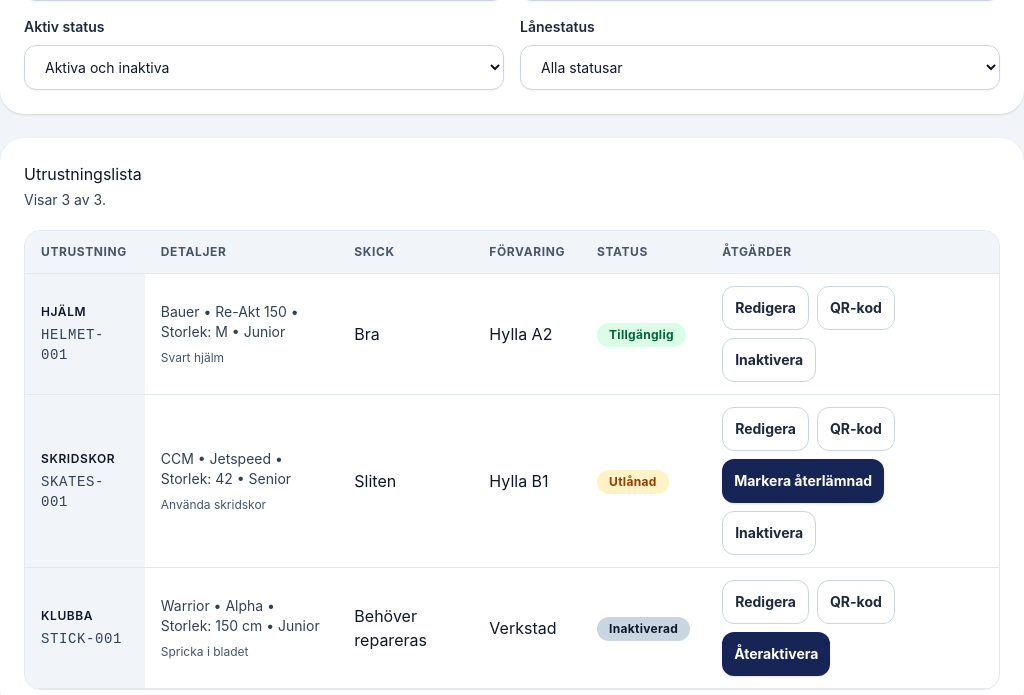
Test: AdminPage › returns equipment and updates list without another fetch
This screenshot has width=1024, height=695.
(page scrolled)
Click the button "Markera återlämnad" at (803, 481), box [722,459,884,503]
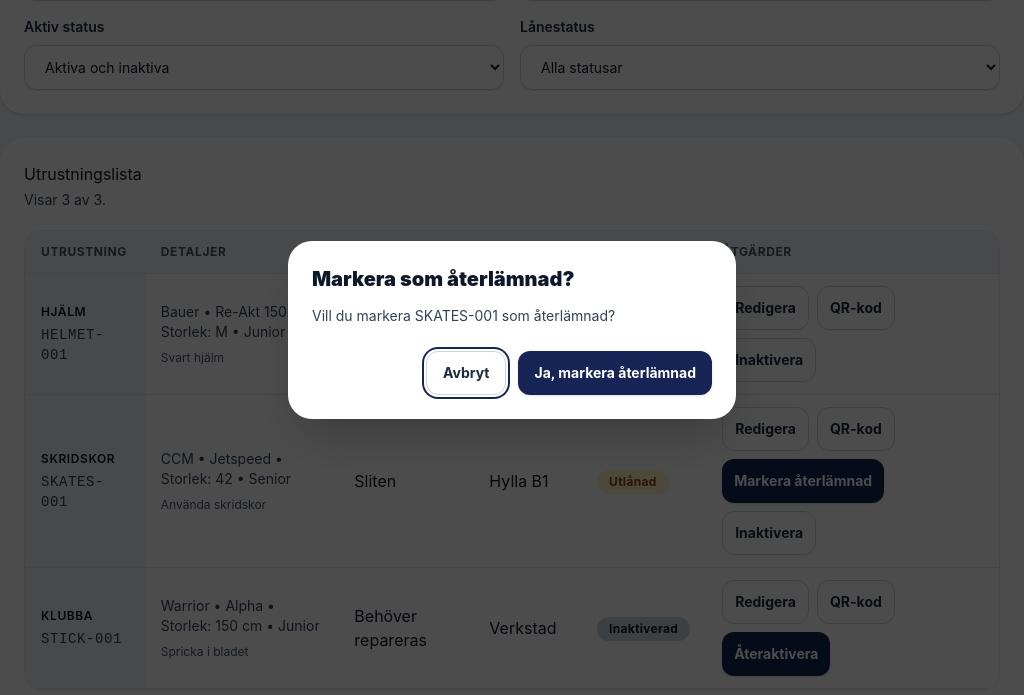
Check: the dialog "Markera som återlämnad" shows "SKATES-001", box [312,307,615,324]
Click the button "Ja, markera återlämnad" at (615, 373), box [518,351,712,395]
(page scrolled)
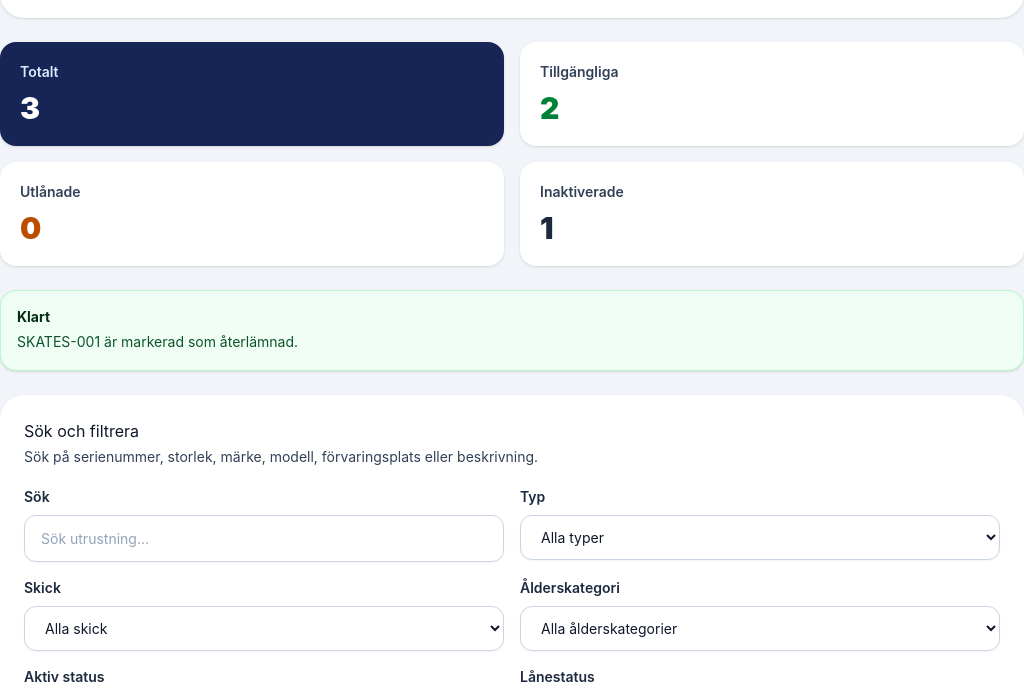
Check: the message "Klart SKATES-001 är markerad som återlämnad." is shown, box [0,290,1023,371]
Check: the button "Markera återlämnad" is gone
